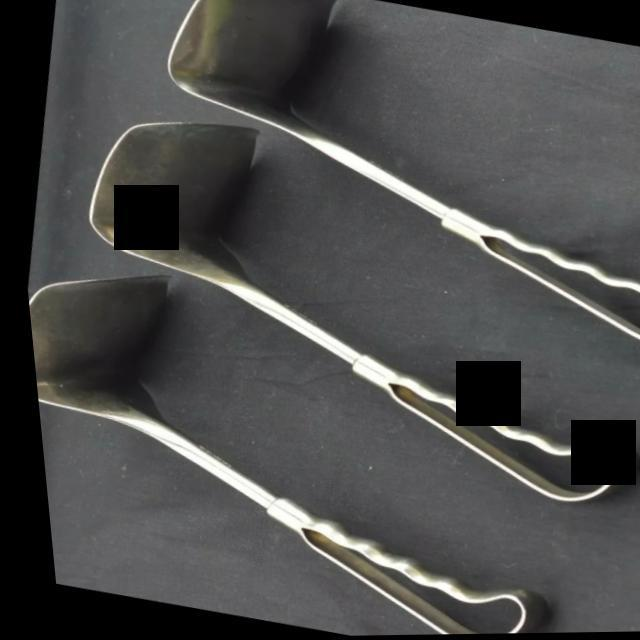Kelly Retractor: (54, 78, 640, 531), (21, 263, 580, 640), (125, 0, 640, 364)
